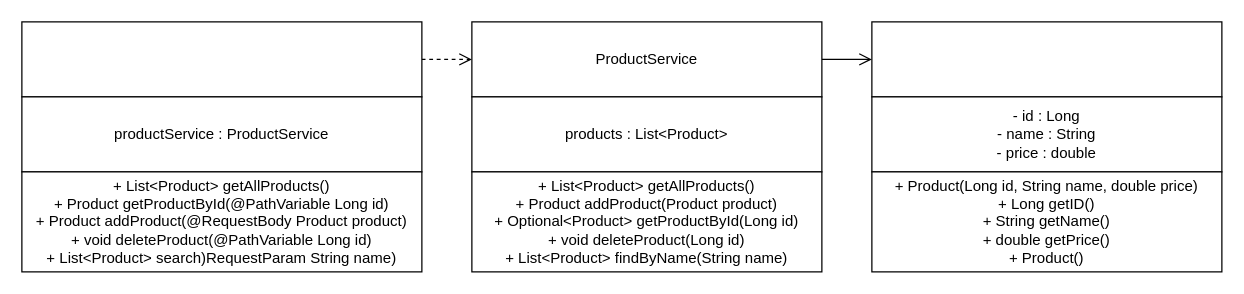
Image size: 1244x294. Some labels were removed from this diagram. Each missing label, with the centre of its shape:
"Product" goes at (x=1046, y=59).
"ProductController" goes at (x=221, y=59).
